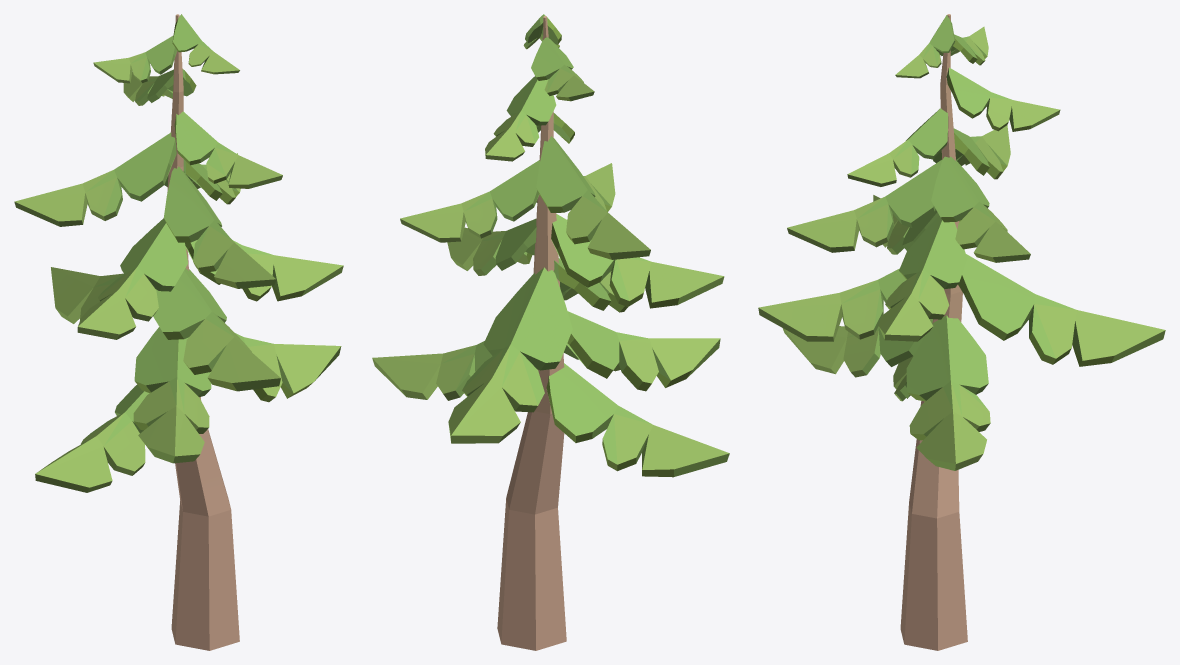
File: tree_02.glb
3 renders of one model, left to right at view 1: azimuth 30°, elevation 25°; view 2: azimuth 150°, elevation 25°; view 3: azimuth 270°, elevation 25°, orthographic. The views are drawn at different scales.
Parts seen in each view (by area): view 1: PP_Tree_02.002; view 2: PP_Tree_02.002; view 3: PP_Tree_02.002.
Part boxes in pixels (<box>): PP_Tree_02.002: <box>14,14,343,650</box>; PP_Tree_02.002: <box>372,14,729,650</box>; PP_Tree_02.002: <box>758,14,1165,650</box>.
Size of the model in its own units: 3.79 by 6.83 by 4.12.
